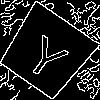Y: (22, 27, 76, 84)
